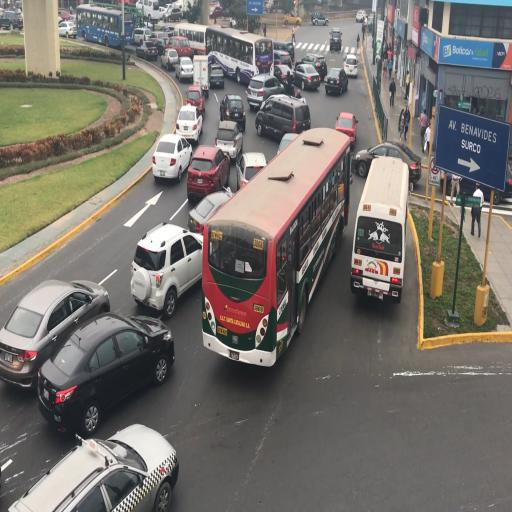auto: (37, 312, 172, 434), (7, 422, 178, 512), (0, 275, 112, 383), (131, 224, 201, 316), (351, 140, 416, 185), (255, 92, 309, 142), (186, 144, 230, 205), (187, 188, 236, 238), (150, 133, 192, 183), (130, 255, 156, 306), (214, 118, 244, 158), (237, 150, 266, 190), (175, 103, 203, 144), (219, 94, 246, 132), (334, 112, 356, 150), (298, 52, 327, 80), (184, 84, 206, 120), (324, 66, 348, 96), (167, 35, 194, 60), (175, 54, 194, 82), (0, 8, 23, 30), (154, 25, 176, 46), (160, 47, 178, 72), (208, 64, 225, 89), (58, 20, 77, 39), (343, 54, 358, 78), (162, 5, 182, 22), (328, 28, 342, 52), (282, 12, 302, 26), (311, 11, 329, 26), (356, 9, 366, 20)
bus: (200, 126, 344, 359), (349, 154, 408, 305), (210, 25, 270, 87), (76, 4, 136, 49), (176, 21, 216, 64), (135, 0, 162, 22)
camion: (193, 54, 209, 101)
